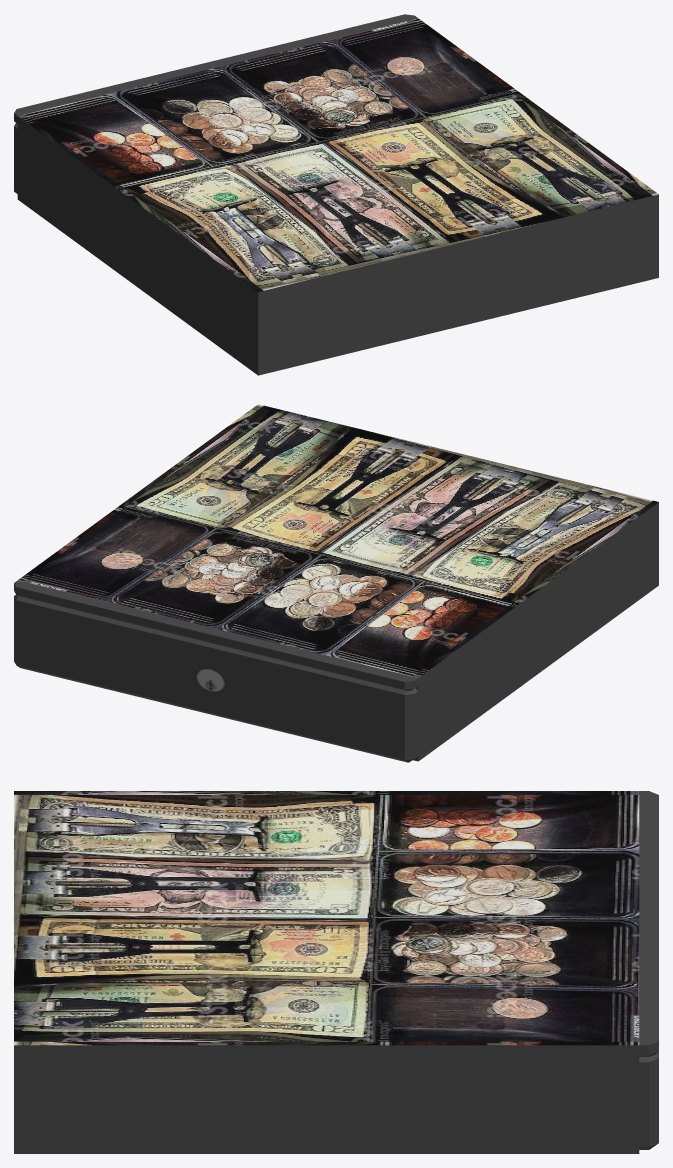
The model's file is dinero.obj.
3 views of the same model, one above another, from view 1: azimuth 30°, elevation 25°; view 2: azimuth 150°, elevation 25°; view 3: azimuth 270°, elevation 25° (orthographic). The views are drawn at different scales.
Visible parts, largest first — view 1: dinero:dinero; view 2: dinero:dinero; view 3: dinero:dinero.
Part boxes in pixels (x1,y1,x2,y2): dinero:dinero: (14, 14, 658, 375); dinero:dinero: (14, 404, 658, 762); dinero:dinero: (14, 791, 658, 1153).
Size of the model in its own units: 1.06 by 0.2105 by 1.13.
2 materials, 2 textured.
